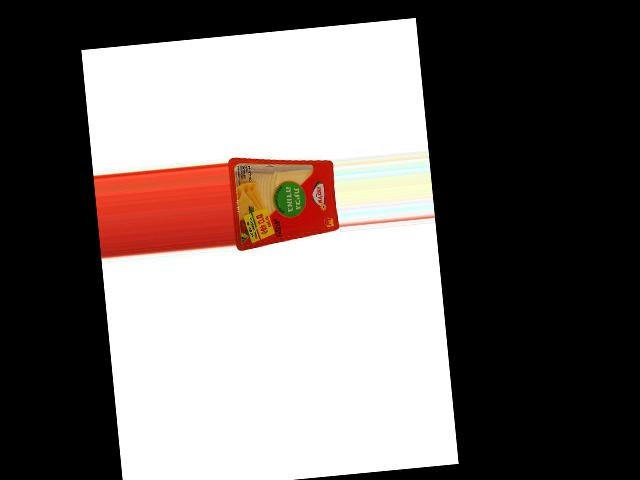cheese: (227, 148, 339, 251)
